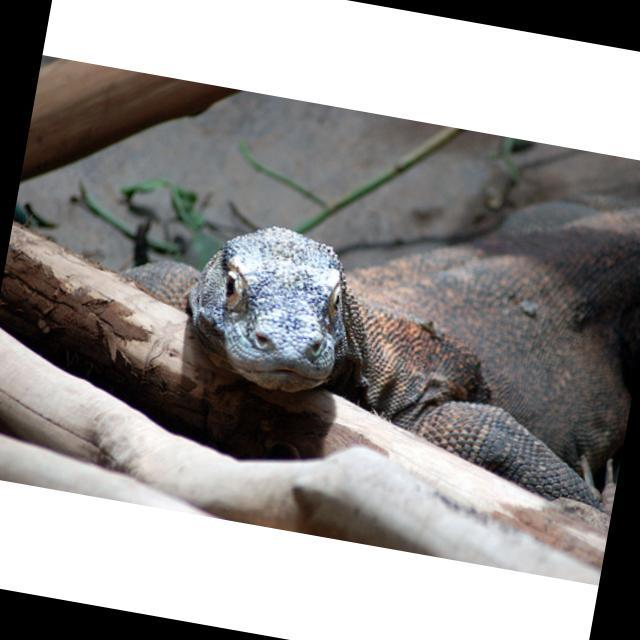KomodoDragon: (94, 113, 640, 513)
